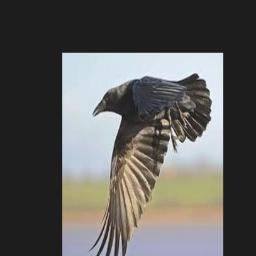Crow: (89, 74, 212, 256)
